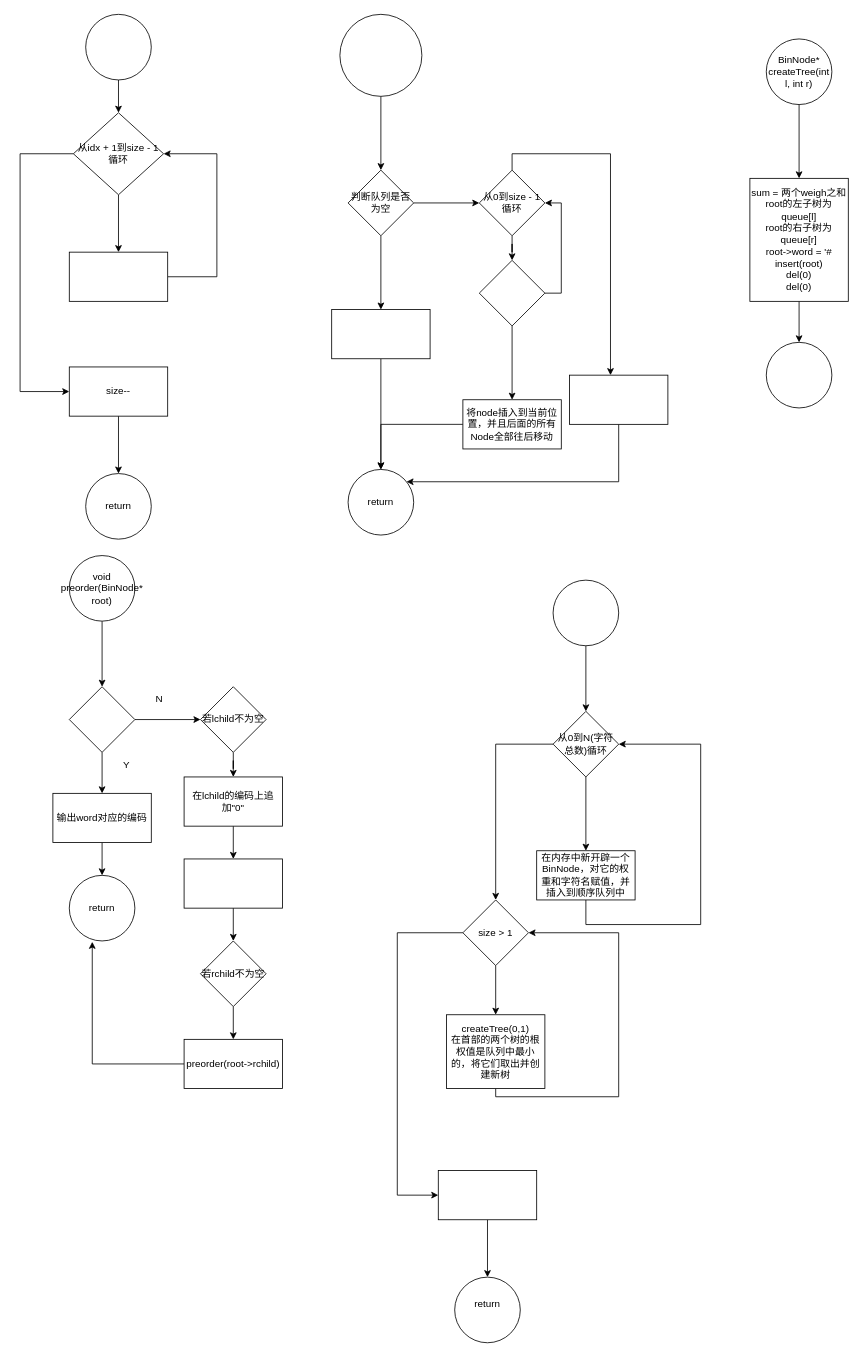
The diagram is 863 pixels wide and 1357 high, and some of its shapes have lost their labels. Each missing label, with the centre of its shape:
main: (x=585, y=612)
preorder(queue[0]: (x=487, y=1195)
preorder(root->lchild): (x=232, y=883)
return root: (x=798, y=375)
void del(int idx): (x=118, y=47)
void insert(BinNode* binNode): (x=380, y=55)
判断当前root->word是否等于#: (x=101, y=719)
如果当前queue[i]->weigh大于binNode->weigh: (x=511, y=293)
把当前位置的用下一个位置的treeNode覆盖: (x=118, y=276)
若为空，queue[0] = binNode: (x=380, y=334)
若遍历整个队列后没有找到比binNode的weigh更大的node，就在最后插入当前的binNode: (x=618, y=399)
